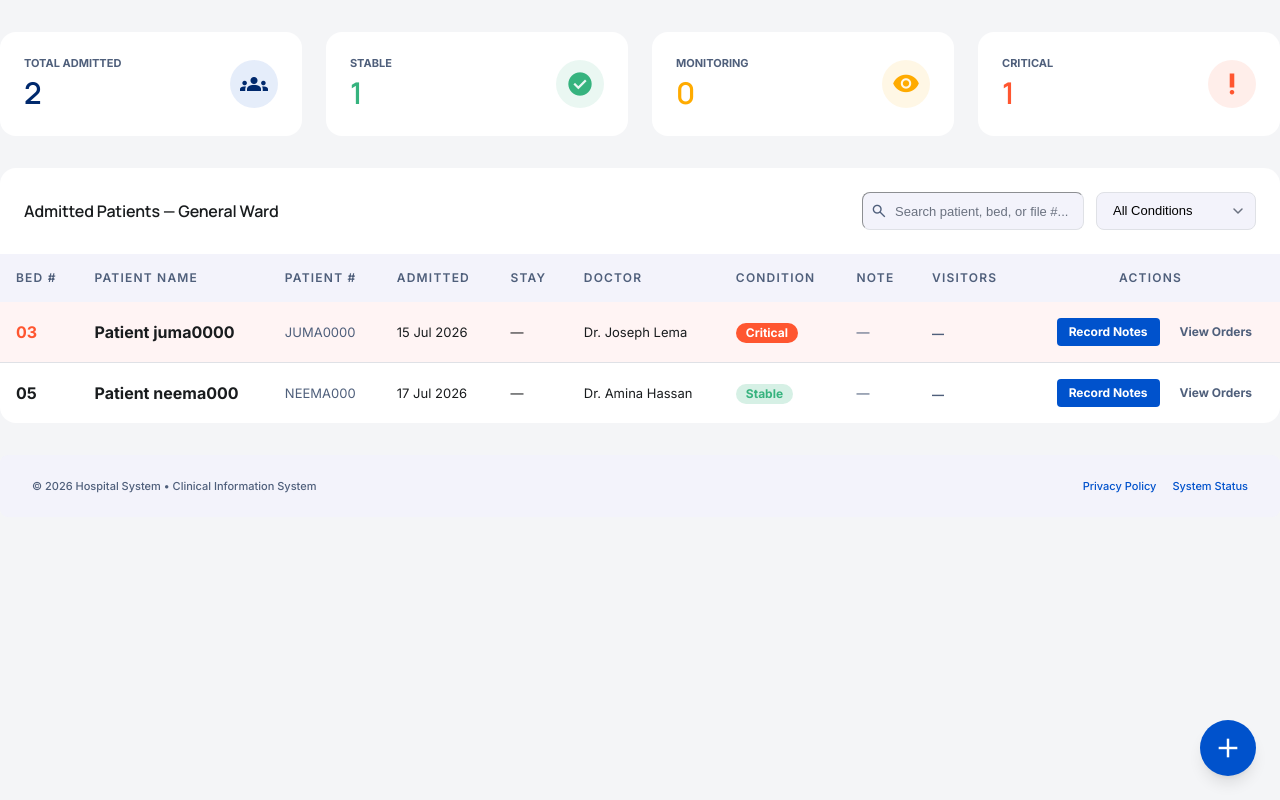
Test: MyPatientsPage › filters patient rows based on search input query
This screenshot has width=1280, height=800.
Expected: the text "Patient juma0000" is shown, [78,302,269,362]
Type "juma0000" into the field with placeholder "Search patient, bed, or file #...".
click(973, 211); type("juma0000")  # box [862,192,1084,230]
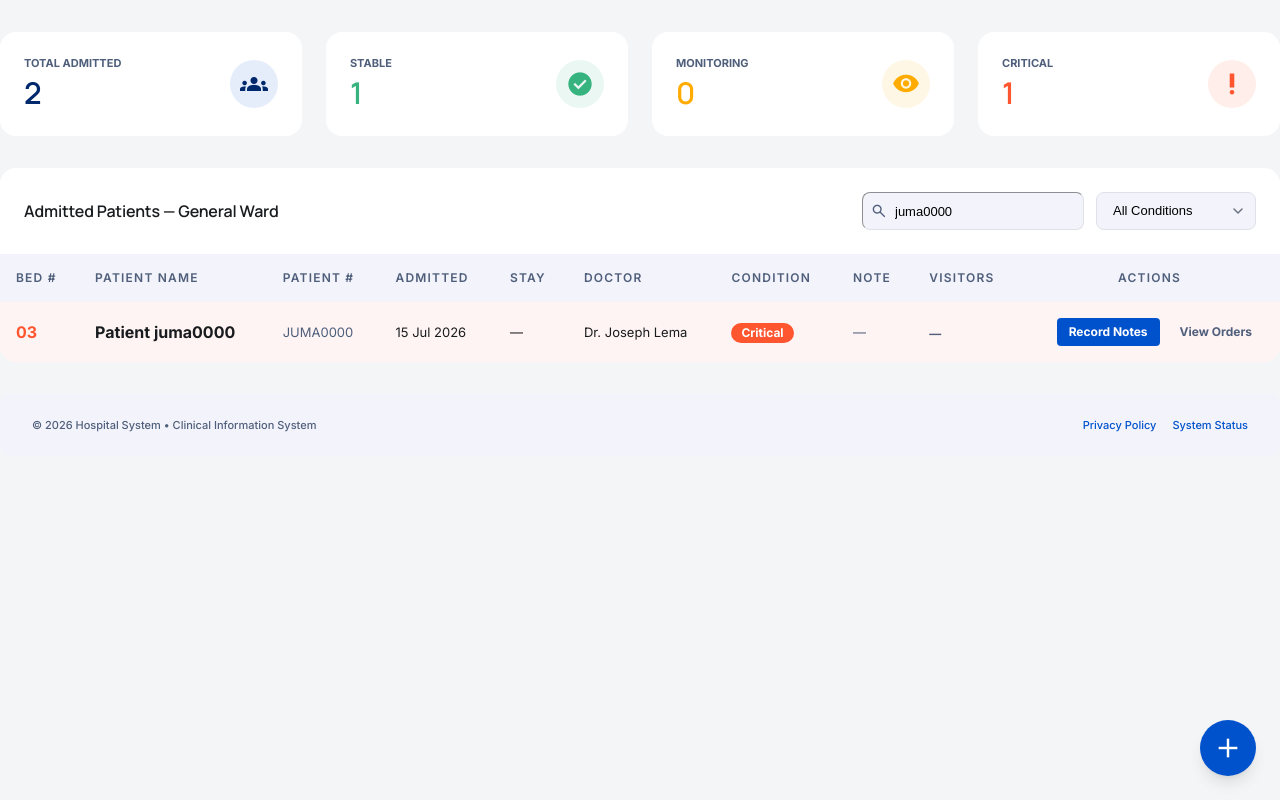
Expected: the text "Patient juma0000" is shown, [79,302,267,362]
Result: the text "Patient neema000" is gone
